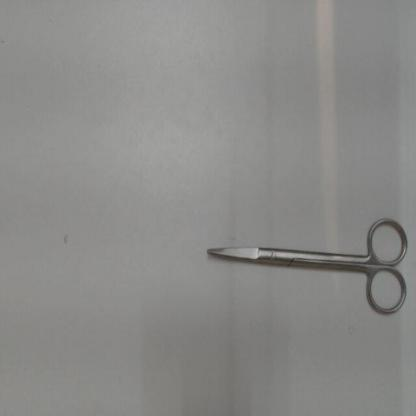Curved Mayo Scissors: (205, 210, 411, 322)
